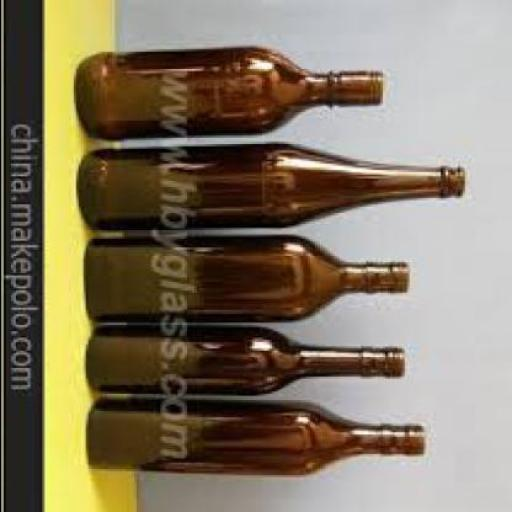glass: (78, 142, 466, 228), (75, 45, 384, 138), (87, 232, 408, 318), (90, 398, 427, 476), (87, 324, 408, 390)
